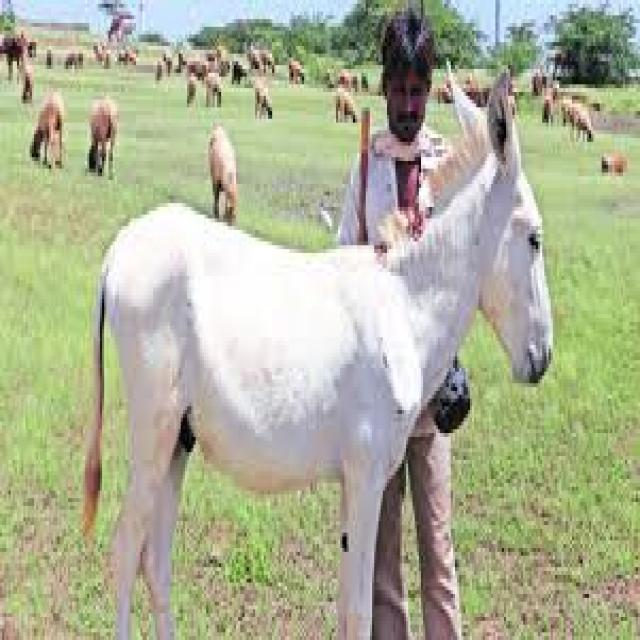donkey: (446, 149, 570, 402)
